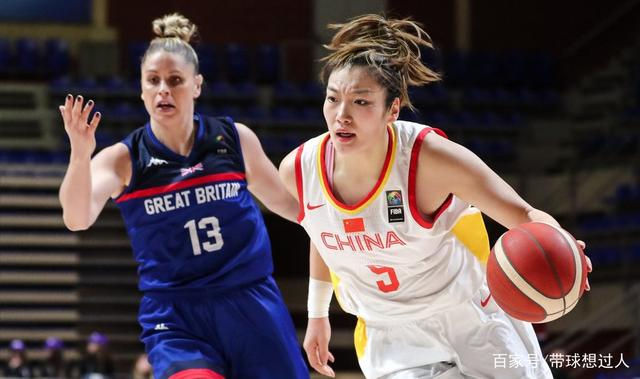ball: (484, 221, 589, 325)
